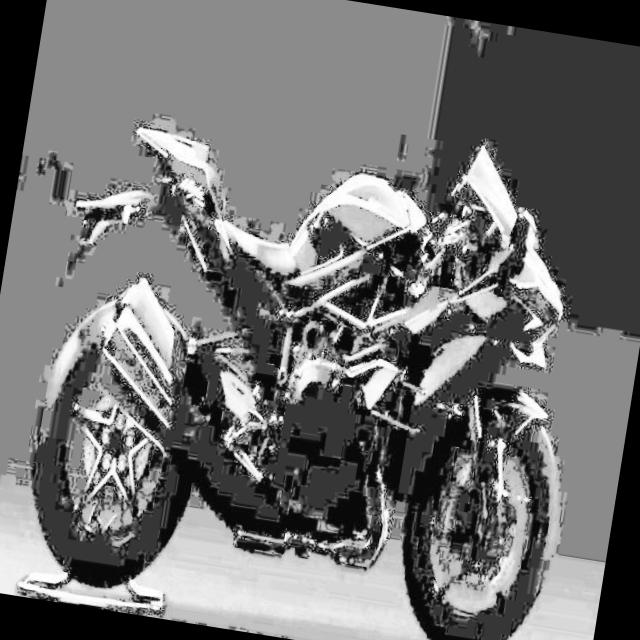Motorcycle: (9, 33, 629, 640)
